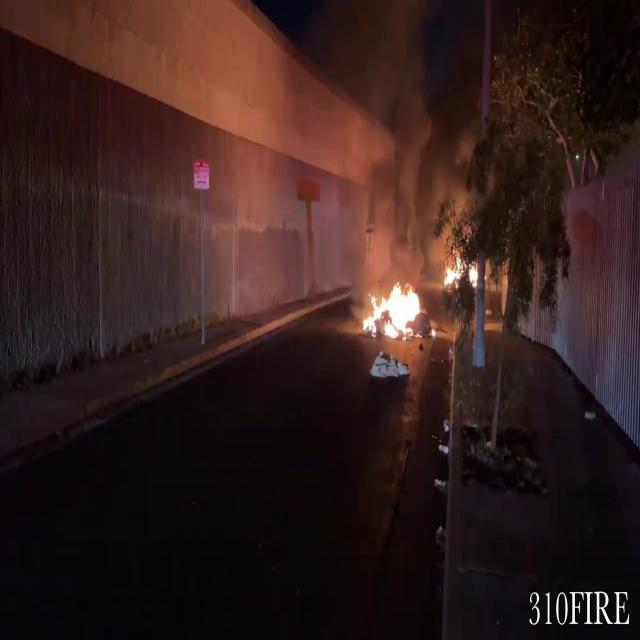Fire: (358, 274, 426, 346), (443, 246, 482, 294)
Smoke: (312, 1, 463, 256)
